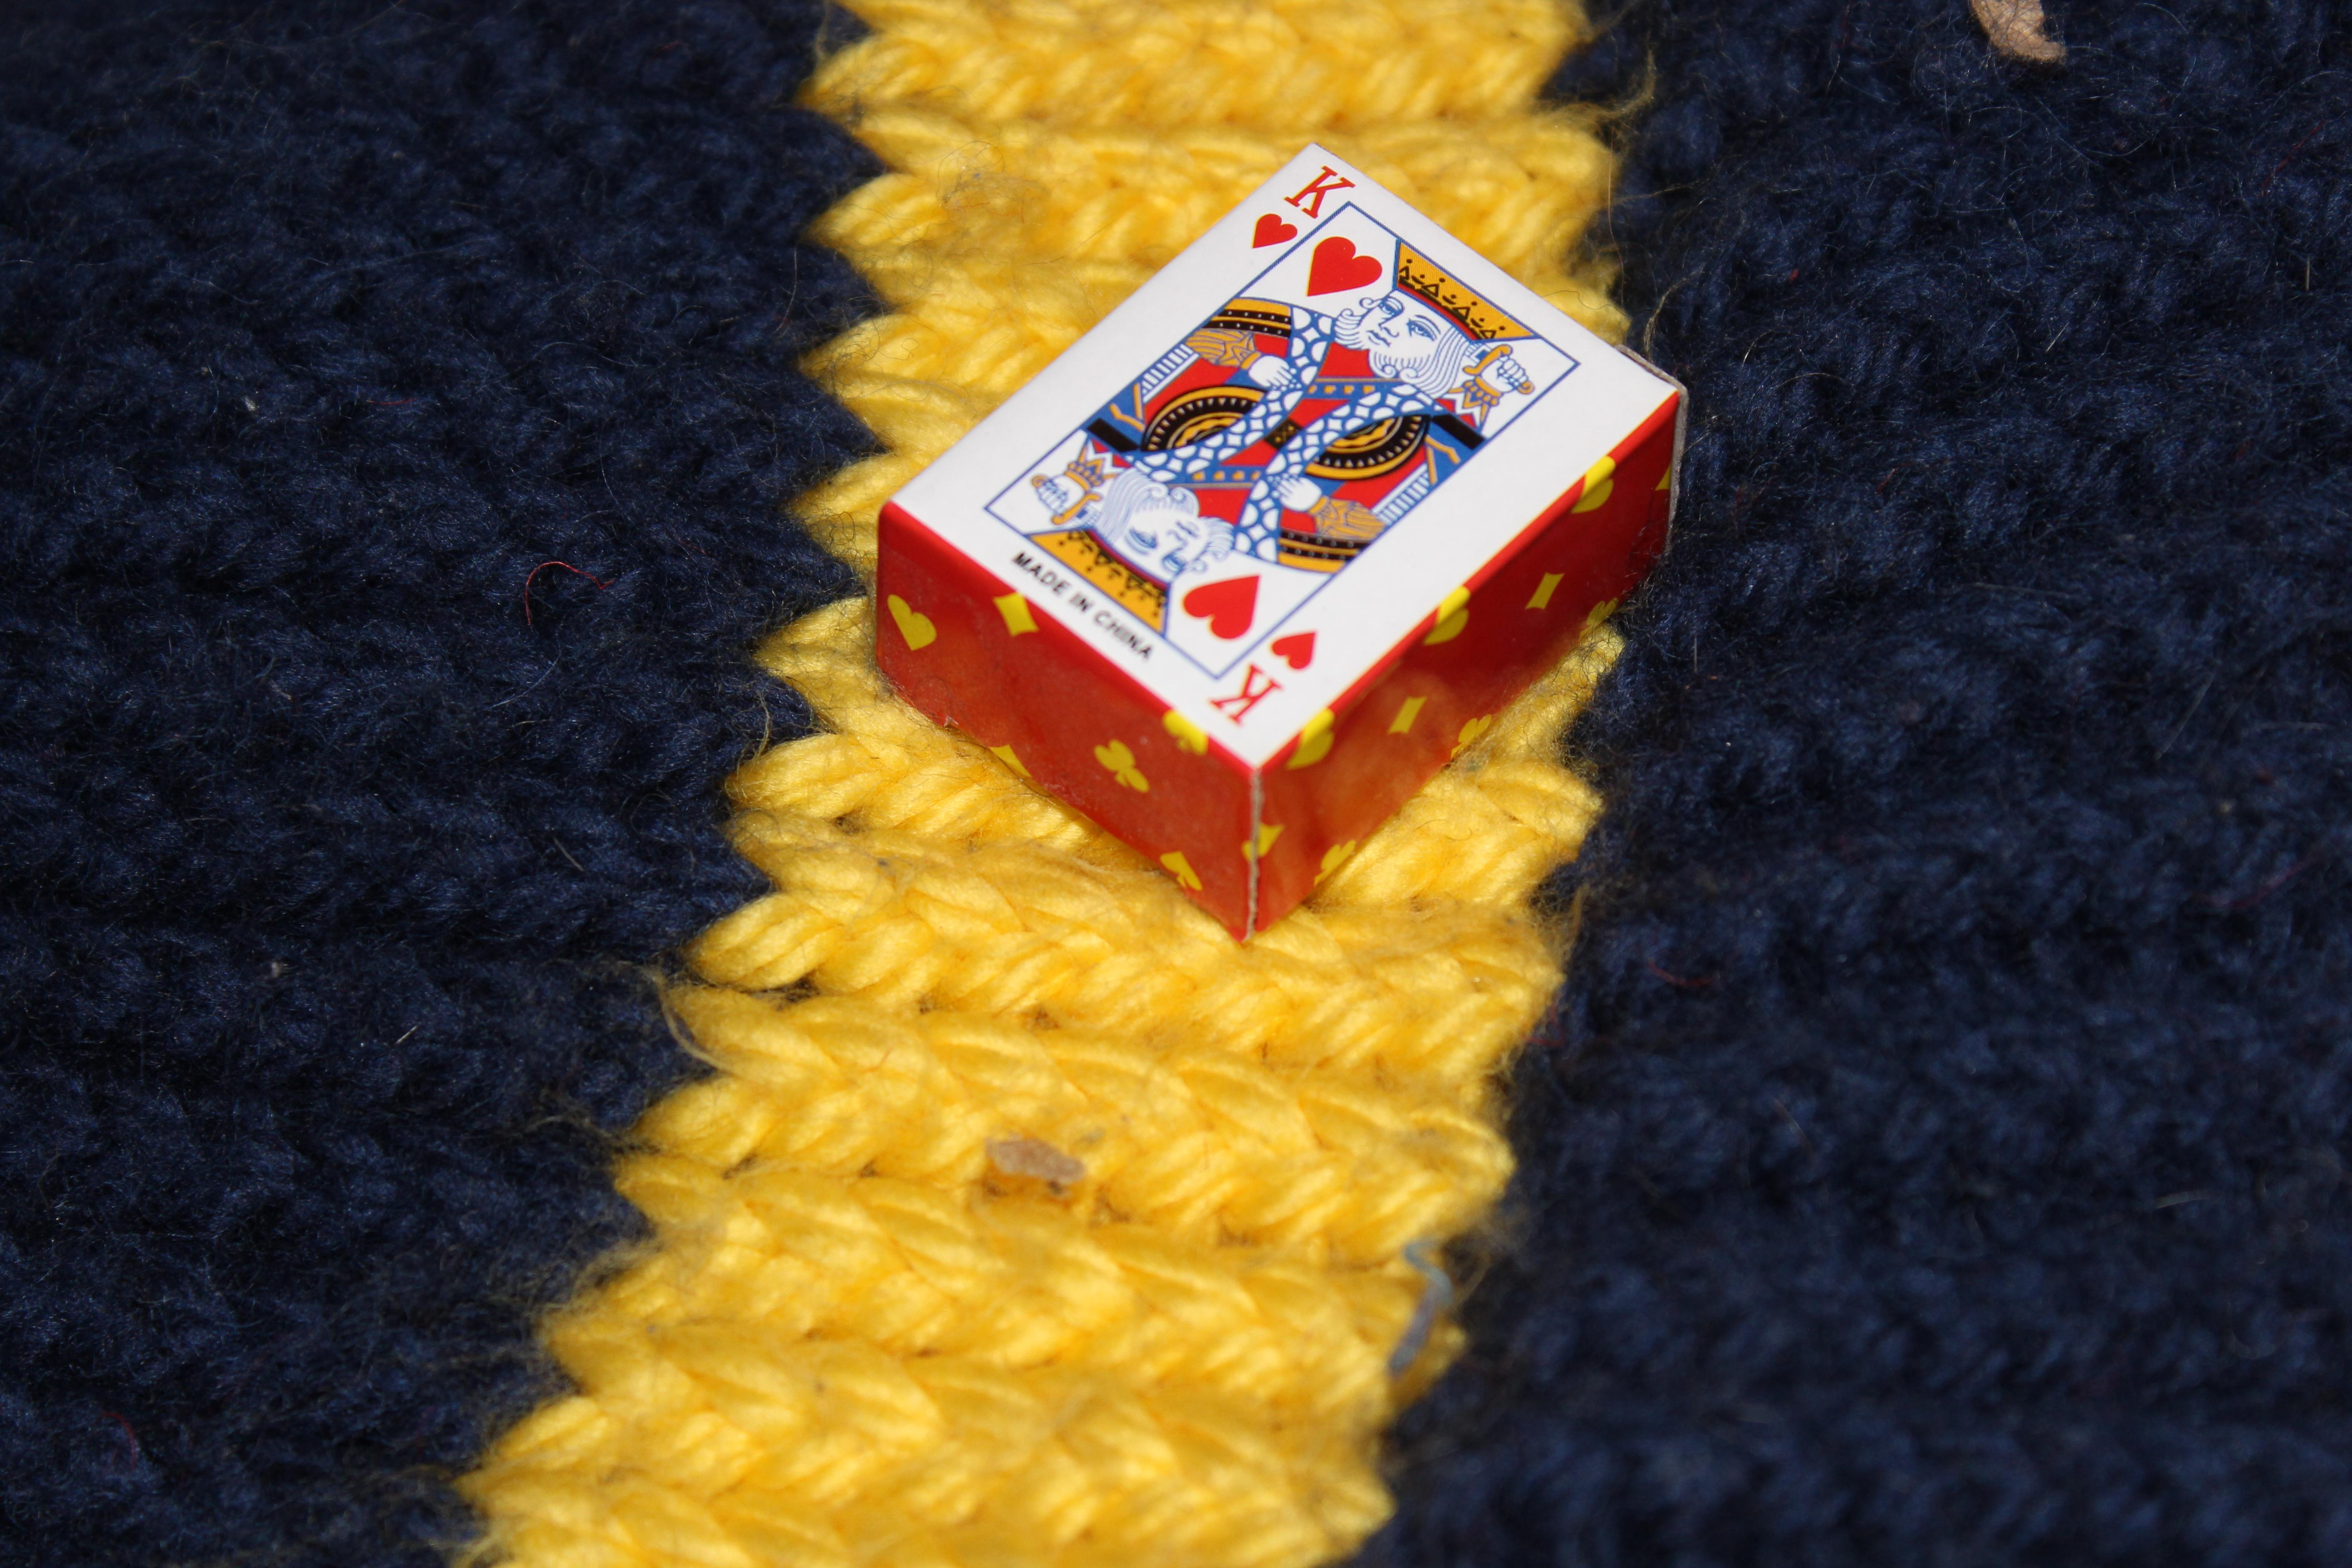miniCards: (845, 133, 1708, 948)
